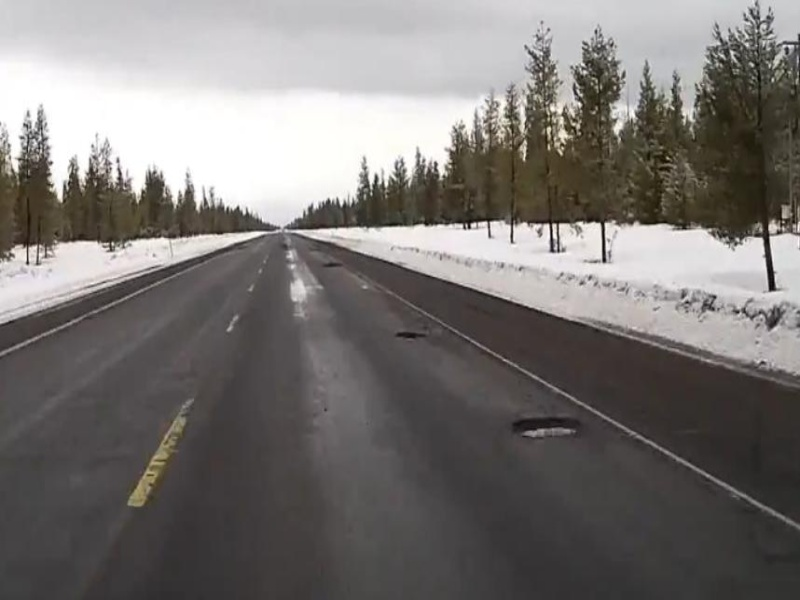pothole: (509, 411, 583, 441), (393, 326, 430, 345)
